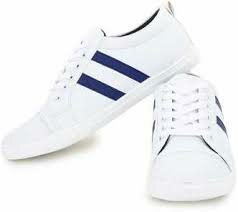Sneakers: (1, 1, 203, 164), (144, 71, 238, 209)
